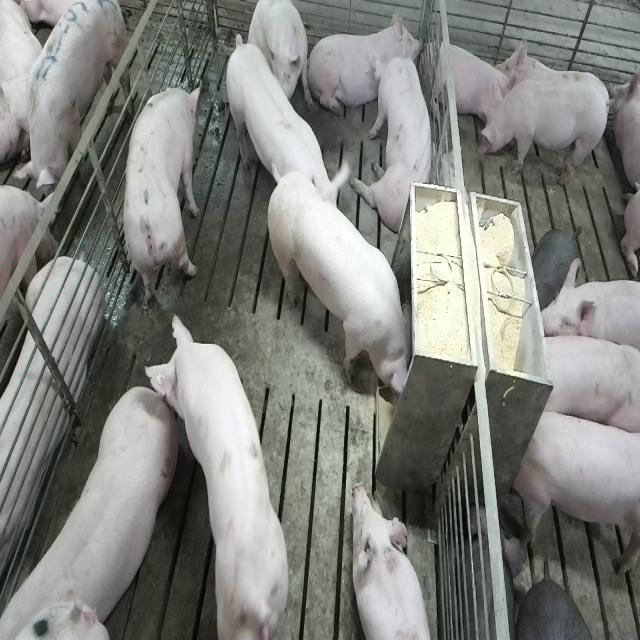Feeding: (271, 171, 421, 405)
Sitting: (360, 55, 438, 233)
Standing: (147, 316, 298, 639), (6, 380, 184, 635), (17, 0, 129, 205), (228, 36, 349, 222), (512, 402, 639, 578), (121, 80, 204, 312), (478, 79, 612, 189), (532, 331, 637, 434), (538, 257, 640, 363)
Sternal_lying: (0, 248, 100, 589), (350, 483, 433, 640), (312, 7, 423, 120), (428, 33, 510, 133)
